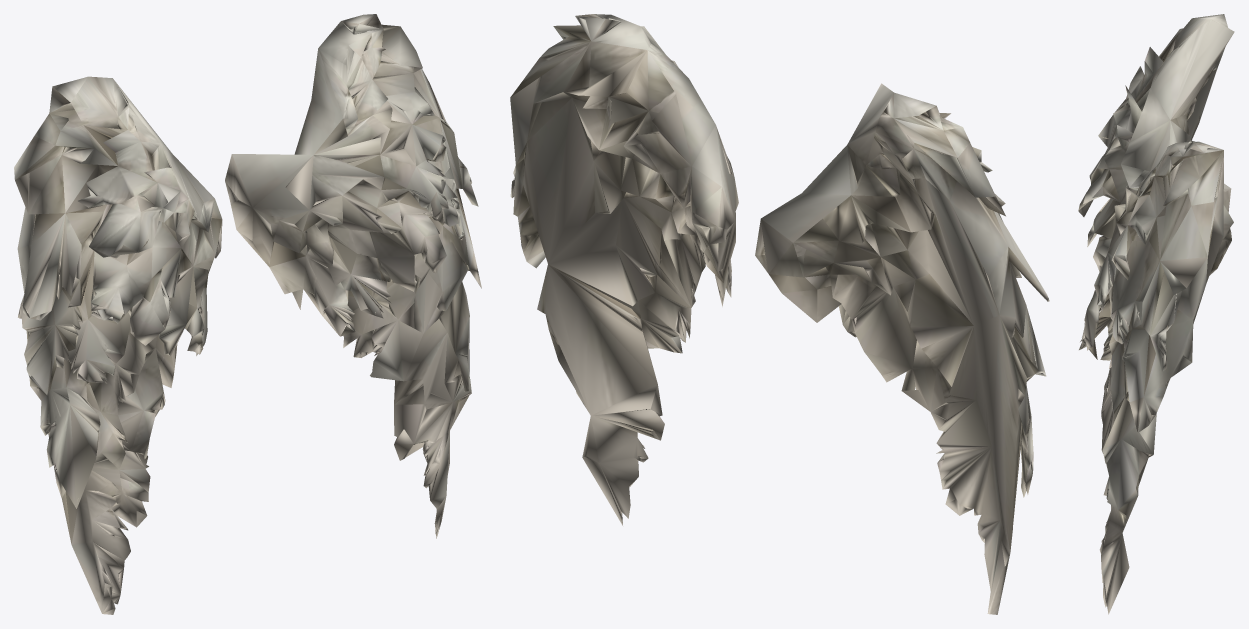
Rendered from wing_angel.gltf.
3 renders of one model, left to right at view 1: azimuth 30°, elevation 25°; view 2: azimuth 150°, elevation 25°; view 3: azimuth 270°, elevation 25°, orthographic. The views are drawn at different scales.
Visible parts, largest first — view 1: WingR, WingL; view 2: WingL, WingR; view 3: WingL, WingR.
Boxes of the visible parts, bbox=[...] form: WingR: bbox=[14, 76, 222, 614]; WingL: bbox=[225, 14, 481, 538]; WingL: bbox=[510, 14, 738, 525]; WingR: bbox=[755, 83, 1049, 614]; WingL: bbox=[1079, 140, 1233, 614]; WingR: bbox=[1078, 14, 1234, 453].
Size of the model in its own units: 1 by 1.02 by 0.3124.
1 material, 1 textured.
